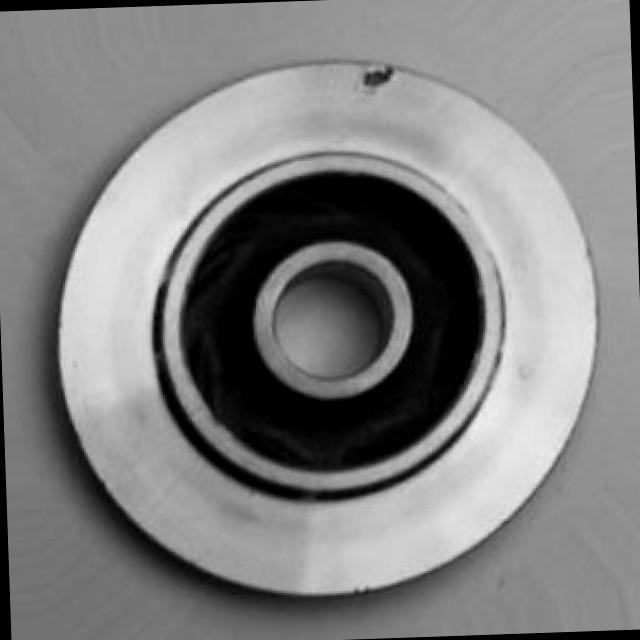Defect: (360, 61, 412, 92)
